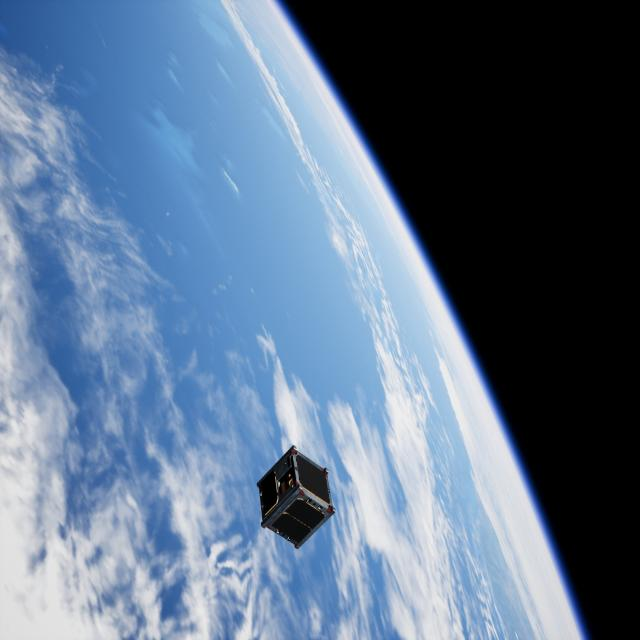medium_debris: (256, 446, 340, 548)
